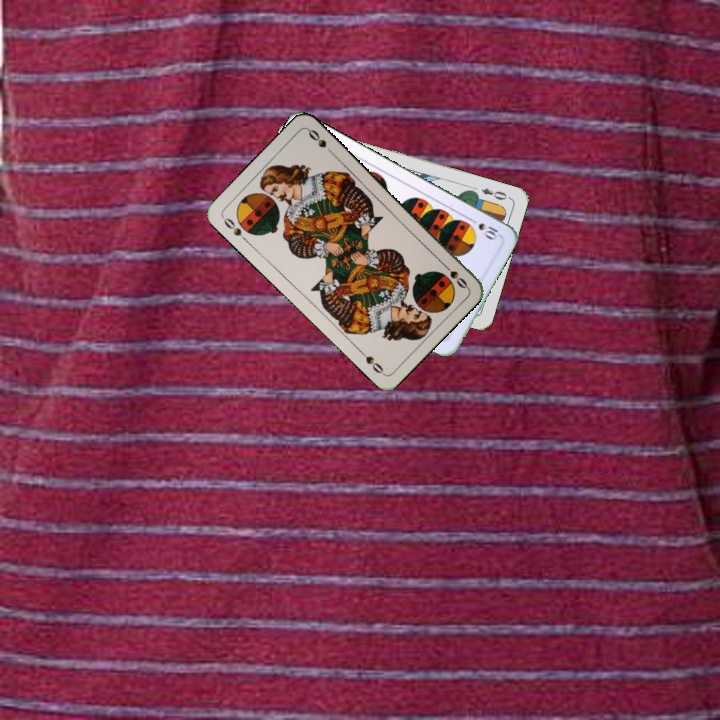EO: (477, 184, 513, 203)
S10: (465, 214, 502, 242)
SO: (438, 258, 470, 291), (218, 213, 251, 245)
